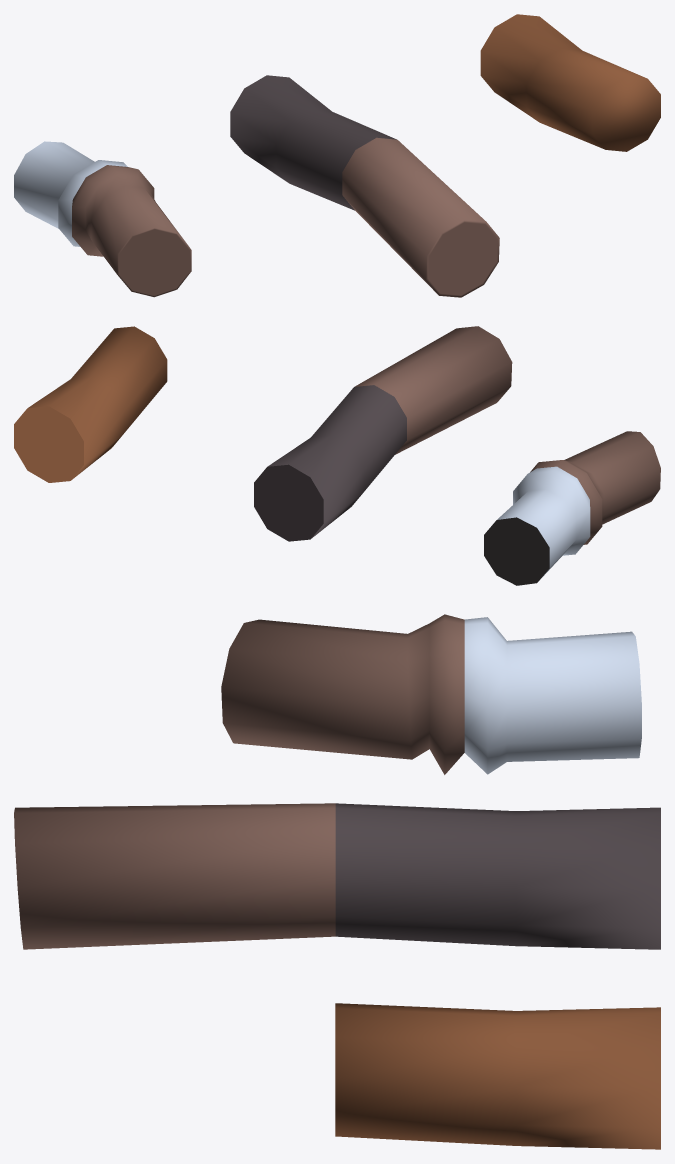
The model's file is Mozzichi.fbx.
3 views of the same model, one above another, from view 1: azimuth 30°, elevation 25°; view 2: azimuth 150°, elevation 25°; view 3: azimuth 270°, elevation 25° (orthographic). The views are drawn at different scales.
Parts seen in each view (by area): view 1: Mozzico2, Mozzico3, Mozzico1; view 2: Mozzico2, Mozzico3, Mozzico1; view 3: Mozzico2, Mozzico3, Mozzico1.
Boxes of the visible parts, x1,y1,x2,y2 form: Mozzico2: (230,75,499,297); Mozzico3: (14,141,191,297); Mozzico1: (480,14,660,151); Mozzico2: (254,326,512,541); Mozzico3: (484,431,660,585); Mozzico1: (14,326,167,482); Mozzico2: (14,803,660,949); Mozzico3: (221,614,641,774); Mozzico1: (335,1003,660,1149).
Bounding box in the file's own units: 7.35 × 1.14 × 4.46.
